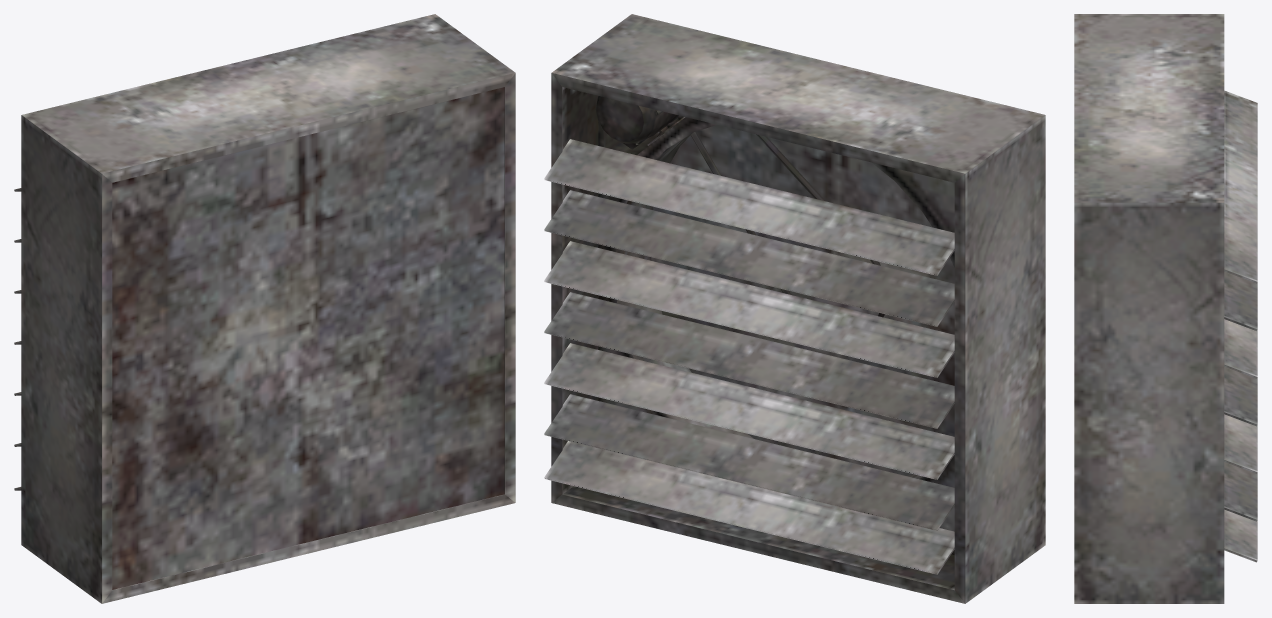
File: sm22_120_exhaustfanframe01a.fbx
3 renders of one model, left to right at view 1: azimuth 30°, elevation 25°; view 2: azimuth 150°, elevation 25°; view 3: azimuth 270°, elevation 25°, orthographic. The views are drawn at different scales.
Parts seen in each view (by area): view 1: LOD_1_Group_0_Sub_1__sm22_026_ExhaustFan01A_A_Mat; view 2: LOD_1_Group_0_Sub_1__sm22_026_ExhaustFan01A_A_Mat; view 3: LOD_1_Group_0_Sub_1__sm22_026_ExhaustFan01A_A_Mat.
Boxes of the visible parts, <box> form: LOD_1_Group_0_Sub_1__sm22_026_ExhaustFan01A_A_Mat: <box>14,14,515,603</box>; LOD_1_Group_0_Sub_1__sm22_026_ExhaustFan01A_A_Mat: <box>544,14,1045,603</box>; LOD_1_Group_0_Sub_1__sm22_026_ExhaustFan01A_A_Mat: <box>1074,14,1257,603</box>.
Size of the model in its own units: 1.46 by 1.45 by 0.6008.
